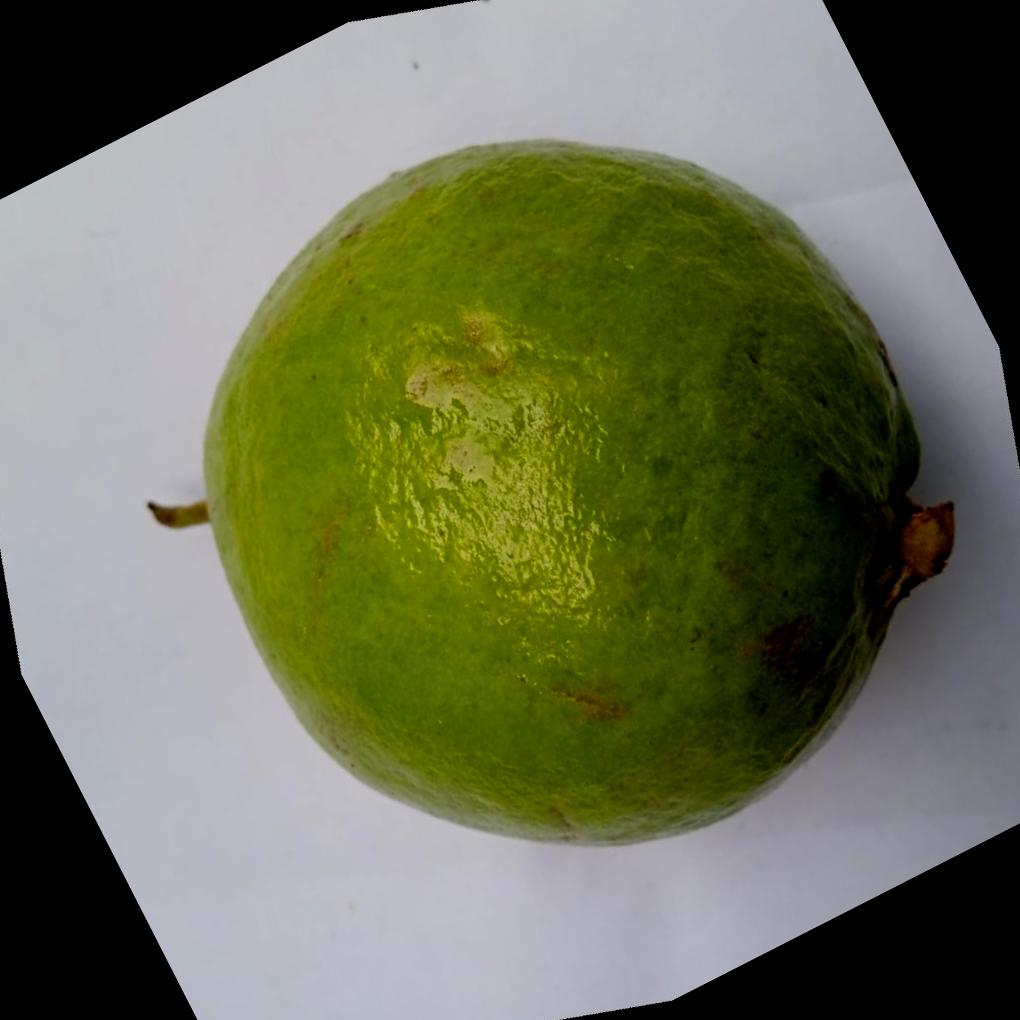FreshGuava: (154, 134, 959, 848)
